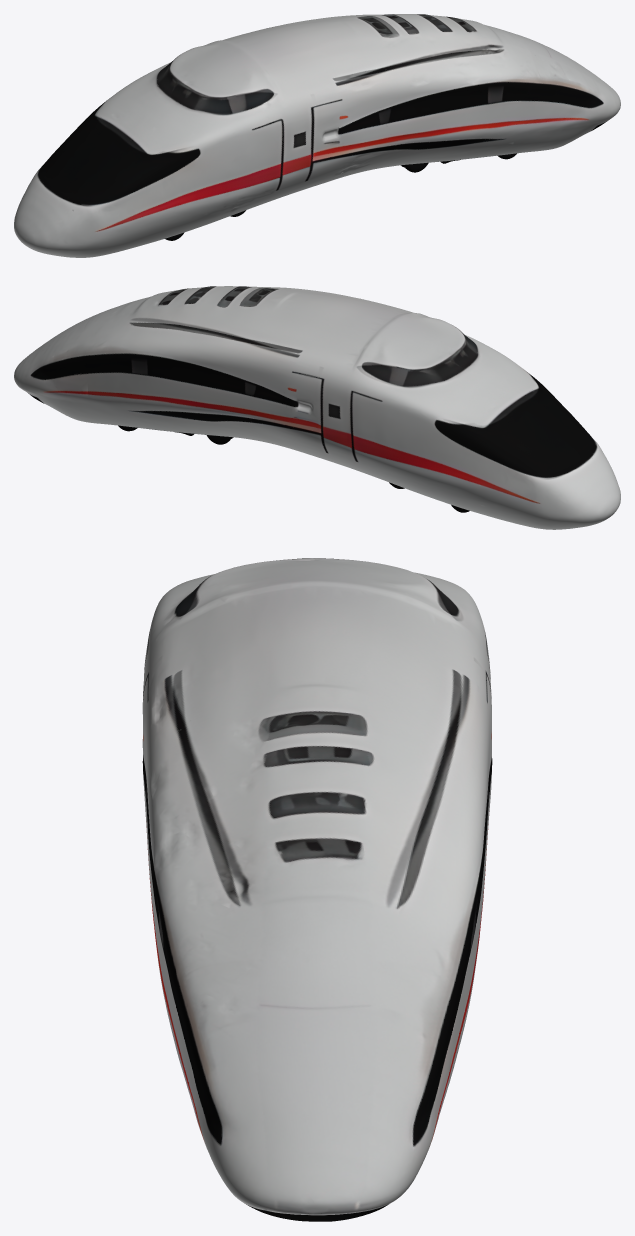
Rendered from train2.glb.
3 renders of one model, top to bottom at view 1: azimuth 30°, elevation 25°; view 2: azimuth 150°, elevation 25°; view 3: azimuth 270°, elevation 25°, orthographic. The views are drawn at different scales.
Parts seen in each view (by area): view 1: texture_v100.001; view 2: texture_v100.001; view 3: texture_v100.001.
Part boxes in pixels (x1=…): texture_v100.001: x1=14, y1=14, x2=620, y2=257; texture_v100.001: x1=14, y1=286, x2=620, y2=529; texture_v100.001: x1=142, y1=558, x2=492, y2=1221.
Bounding box in the file's own units: 1.18 × 0.3288 × 0.3024.
1 material, 1 textured.
